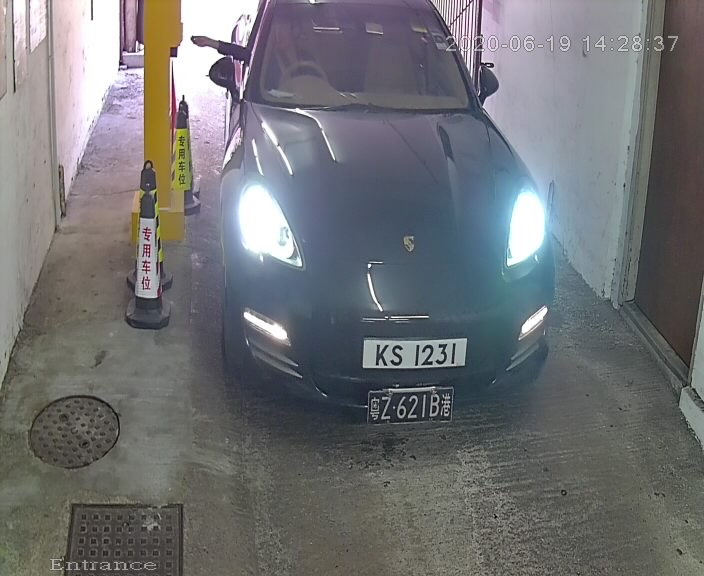privatecar: (201, 3, 572, 441)
